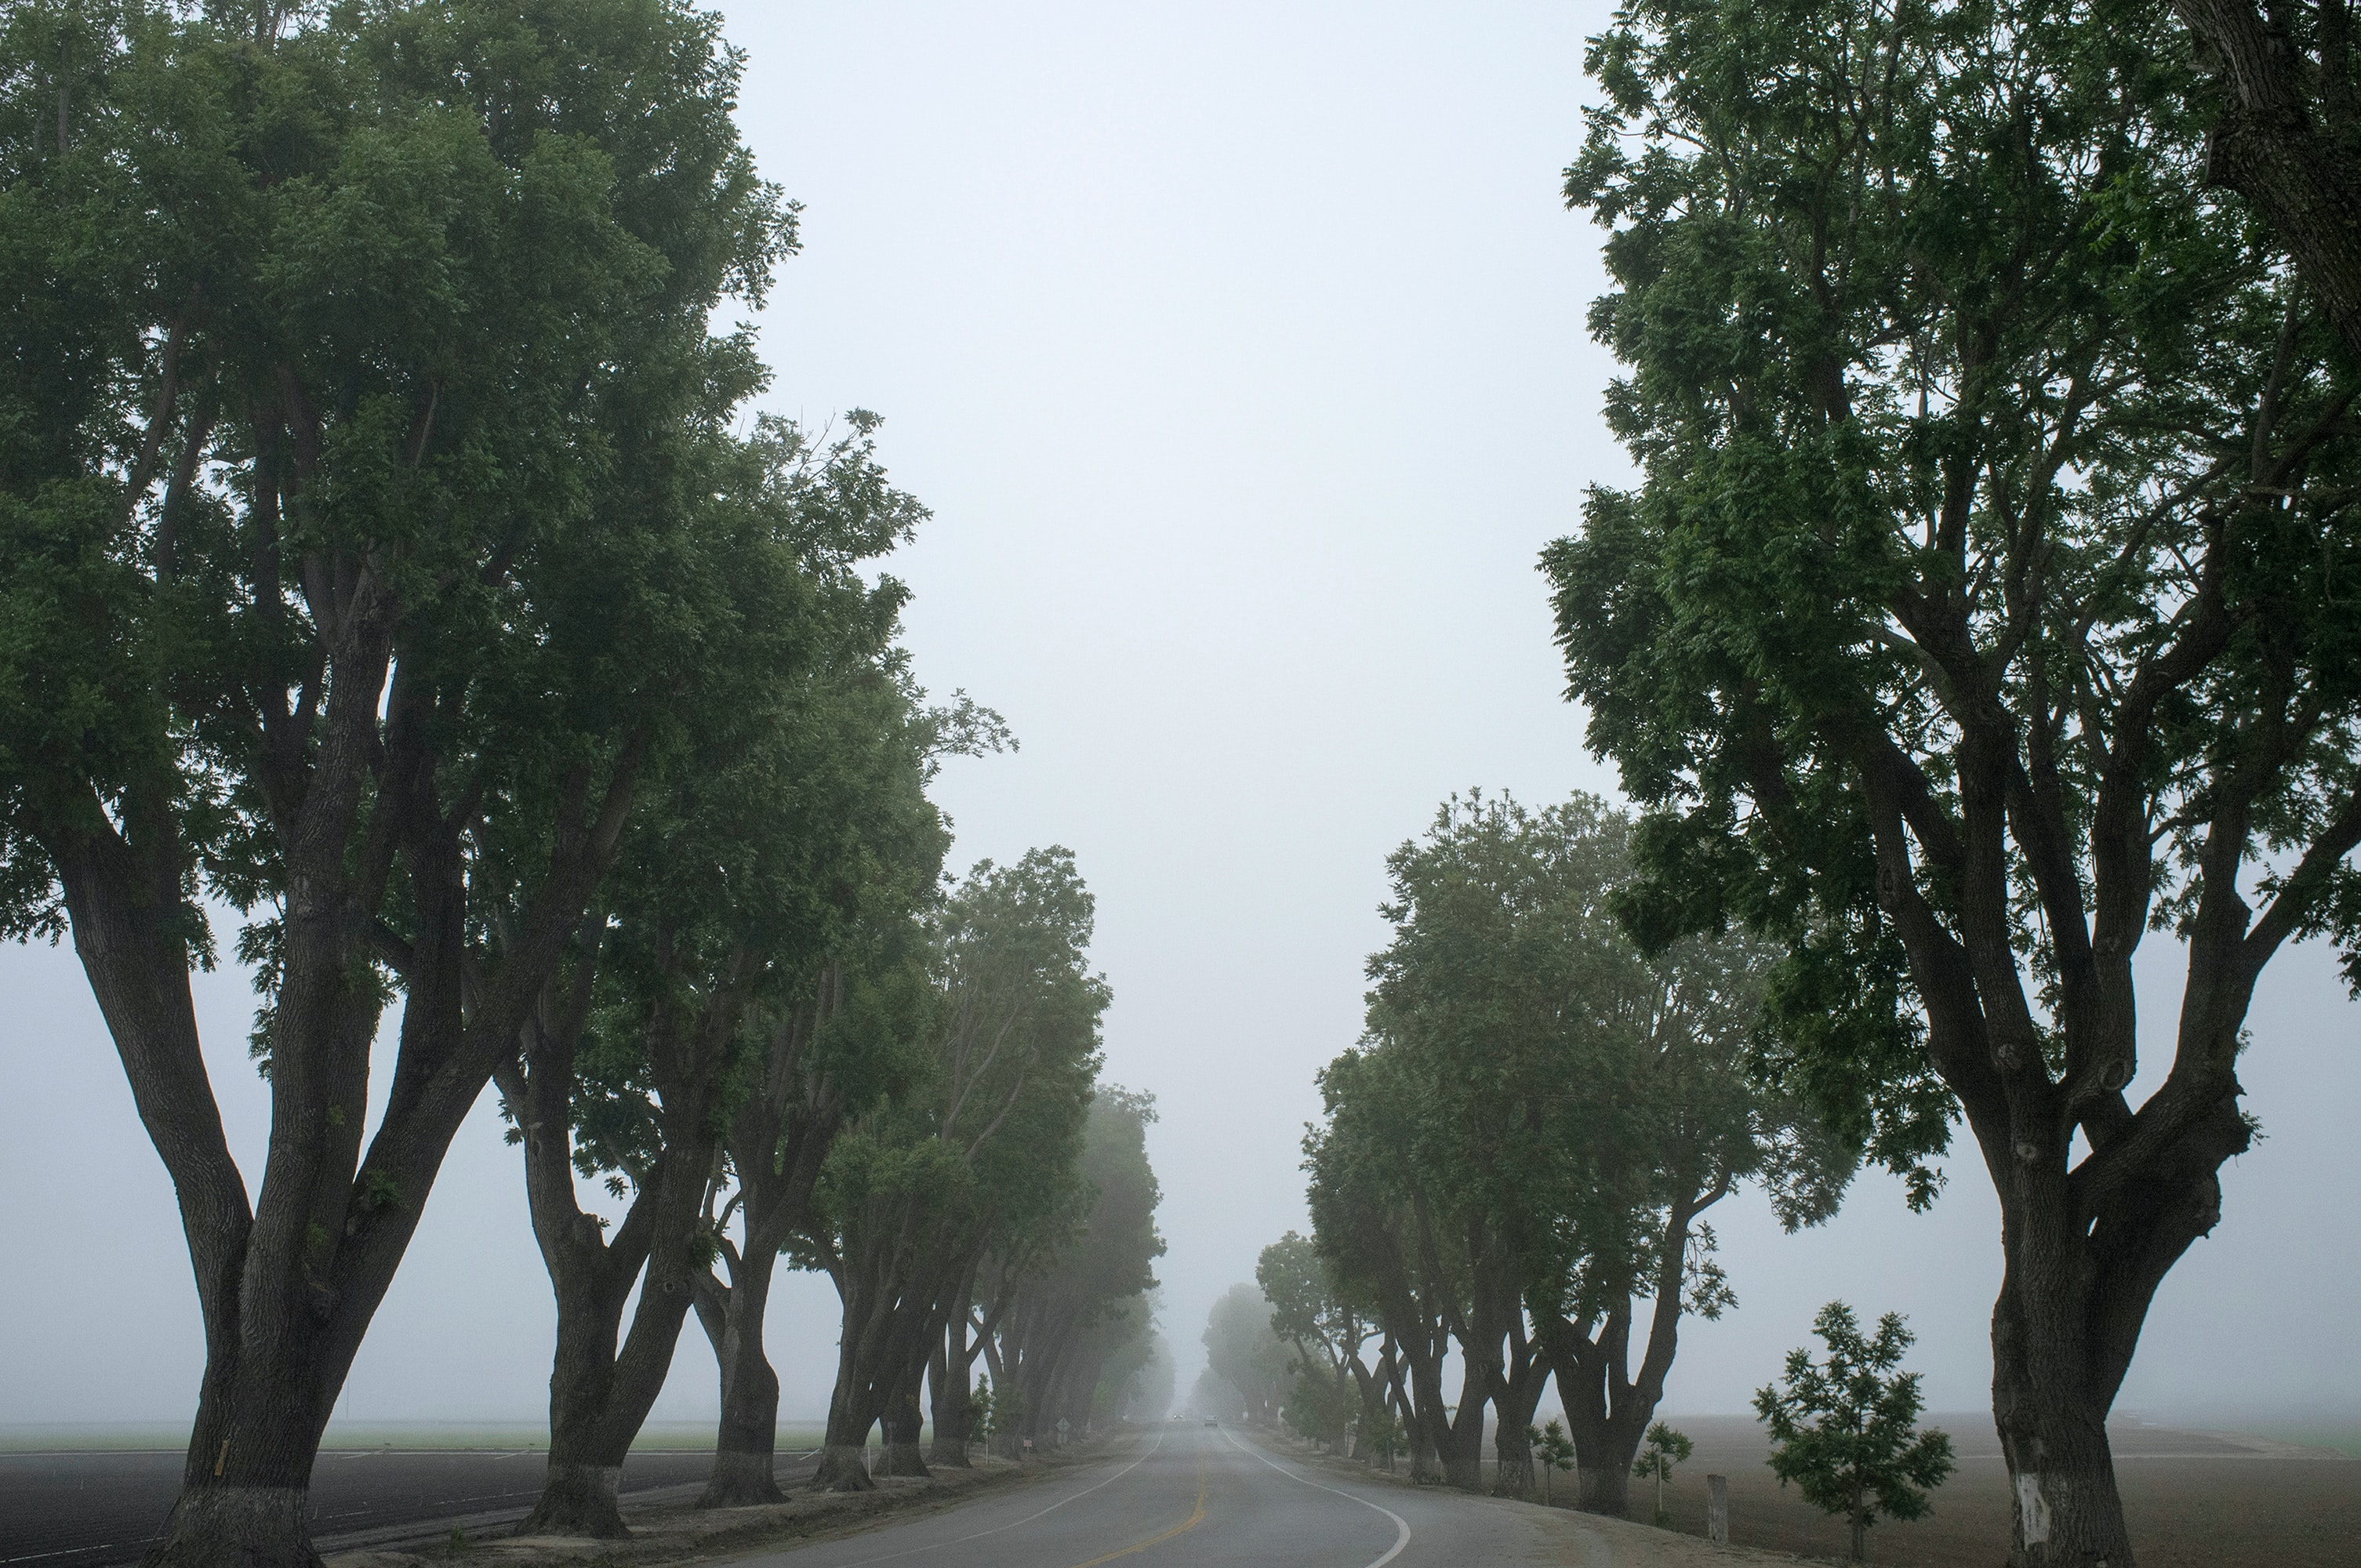tree: (1531, 0, 2361, 1568), (0, 0, 805, 1563), (1363, 788, 1810, 1510)
